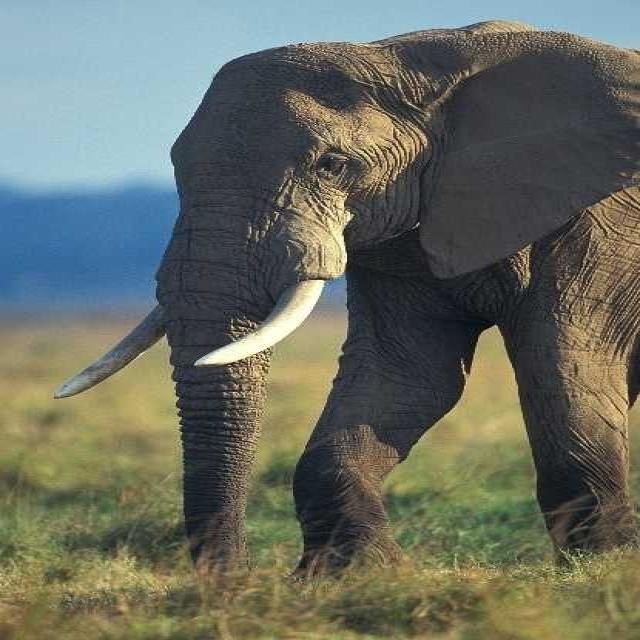Elephant: (52, 19, 638, 601)
